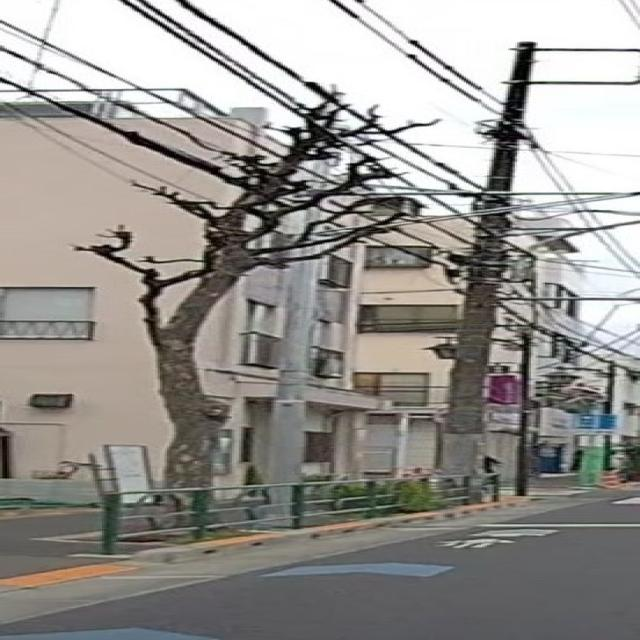maple: (69, 84, 443, 534)
